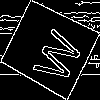W: (24, 23, 85, 87)
